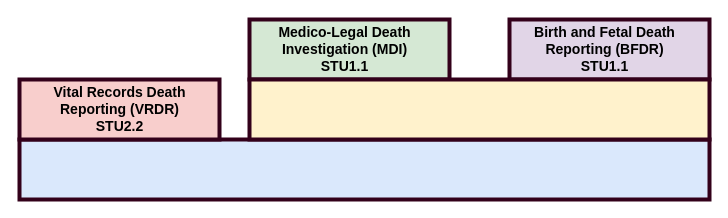
The diagram is 728 pixels wide and 218 high, and some of its shapes have lost their labels. The centre of each missing label's shape, as x and y in pixels:
"USCore 5.0.1" goes at (364,169).
"Vital Records Common Library (VRCL) STU1.1" goes at (479,109).
